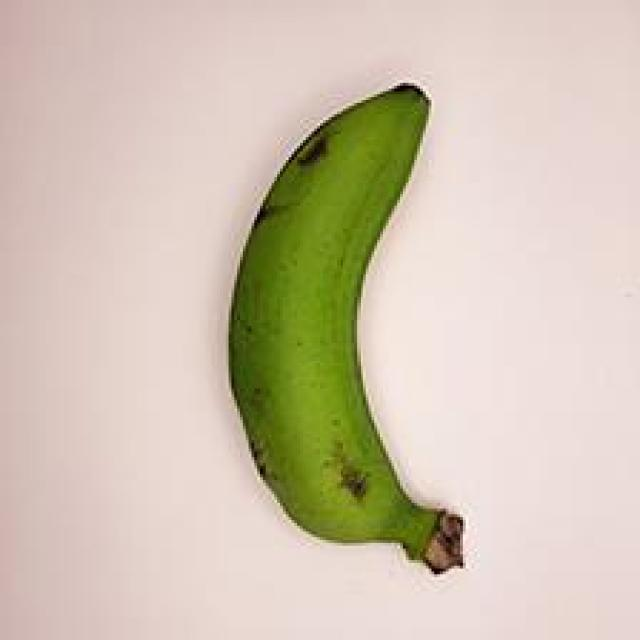Raw: (178, 63, 514, 593)
